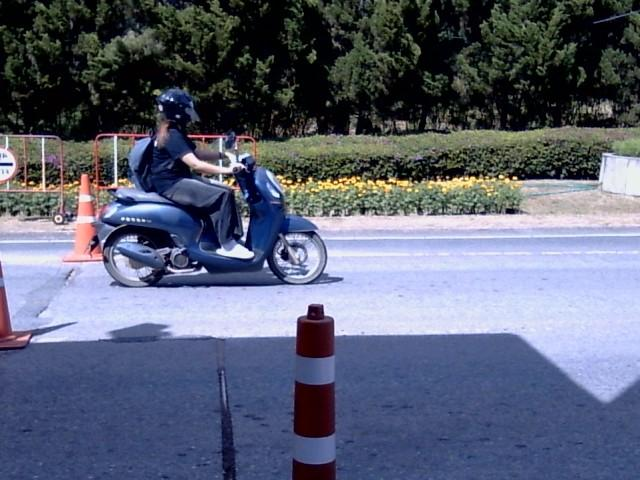helmet: (157, 86, 199, 127)
motor: (85, 154, 326, 286)
person: (147, 88, 253, 259)
